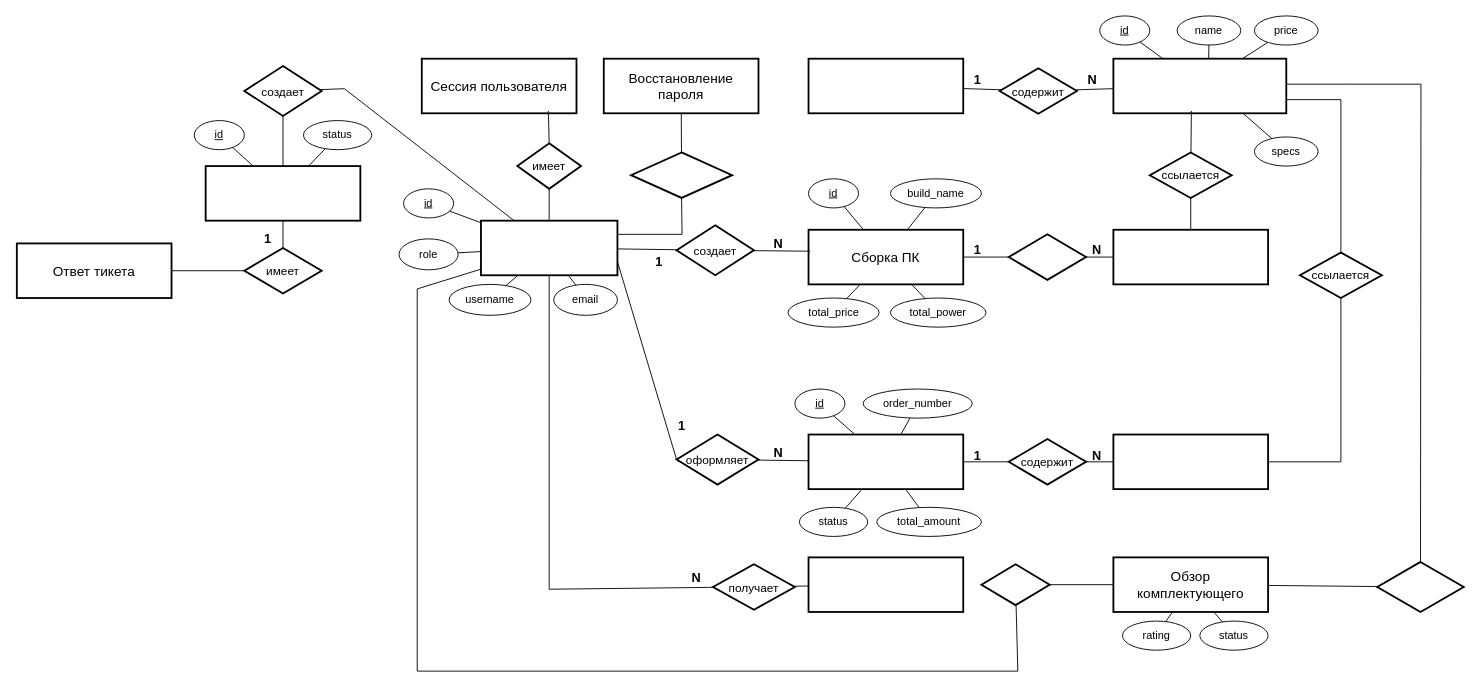
This 1480x688 diagram has some shape labels left out. The centre of each missing label's shape, as x and y in pixels:
включает: point (1047, 256)
Заказ: point (885, 461)
запрашивает: point (681, 174)
Категория комплектующих: point (885, 85)
Комплектующее (CPU, GPU, RAM и др.): point (1199, 85)
относится к: point (1420, 586)
пишет: point (1015, 584)
Позиция заказа: point (1190, 461)
Пользователь: point (549, 247)
Состав сборки: point (1190, 256)
Тикет поддержки: point (282, 193)
Уведомление: point (885, 584)
